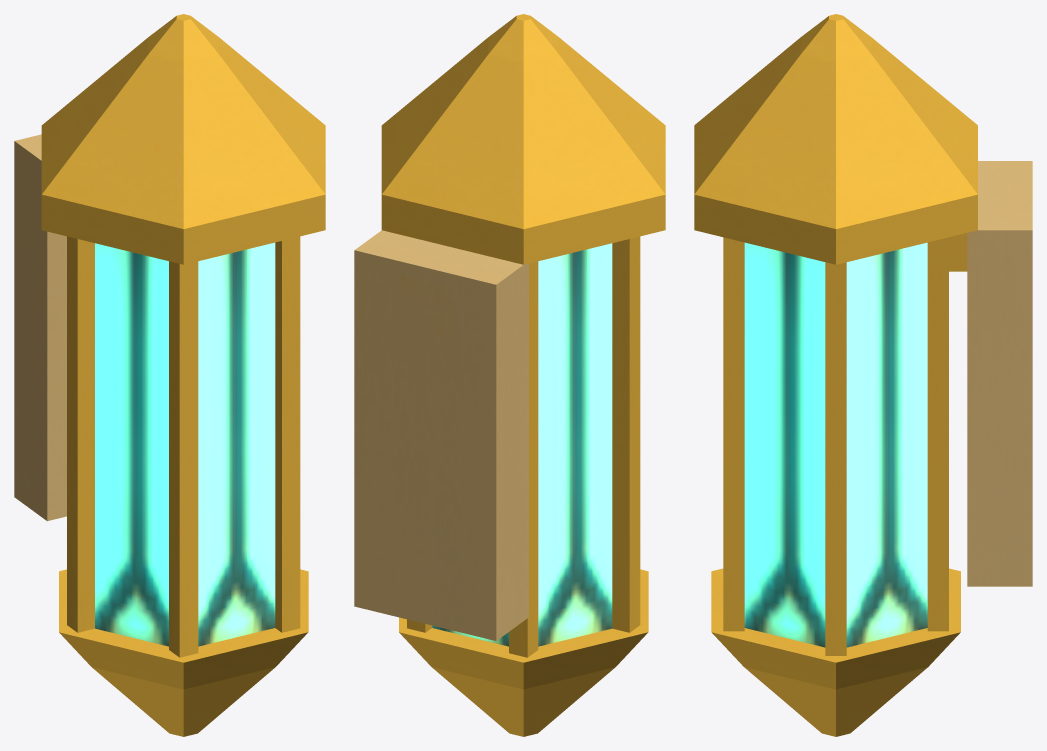
Rendered from rc_light_wall_sconce.glb.
3 renders of one model, left to right at view 1: azimuth 30°, elevation 25°; view 2: azimuth 150°, elevation 25°; view 3: azimuth 270°, elevation 25°, orthographic.
Visible parts, largest first — view 1: SM_RC_Light_WallSconce_0p5x1p2; view 2: SM_RC_Light_WallSconce_0p5x1p2; view 3: SM_RC_Light_WallSconce_0p5x1p2.
Boxes of the visible parts, x1=… form: SM_RC_Light_WallSconce_0p5x1p2: x1=14, y1=14, x2=325, y2=736; SM_RC_Light_WallSconce_0p5x1p2: x1=354, y1=14, x2=665, y2=736; SM_RC_Light_WallSconce_0p5x1p2: x1=694, y1=14, x2=1032, y2=736.
Size of the model in its own units: 0.5 by 1.2 by 0.5165.
1 material, 1 textured.
